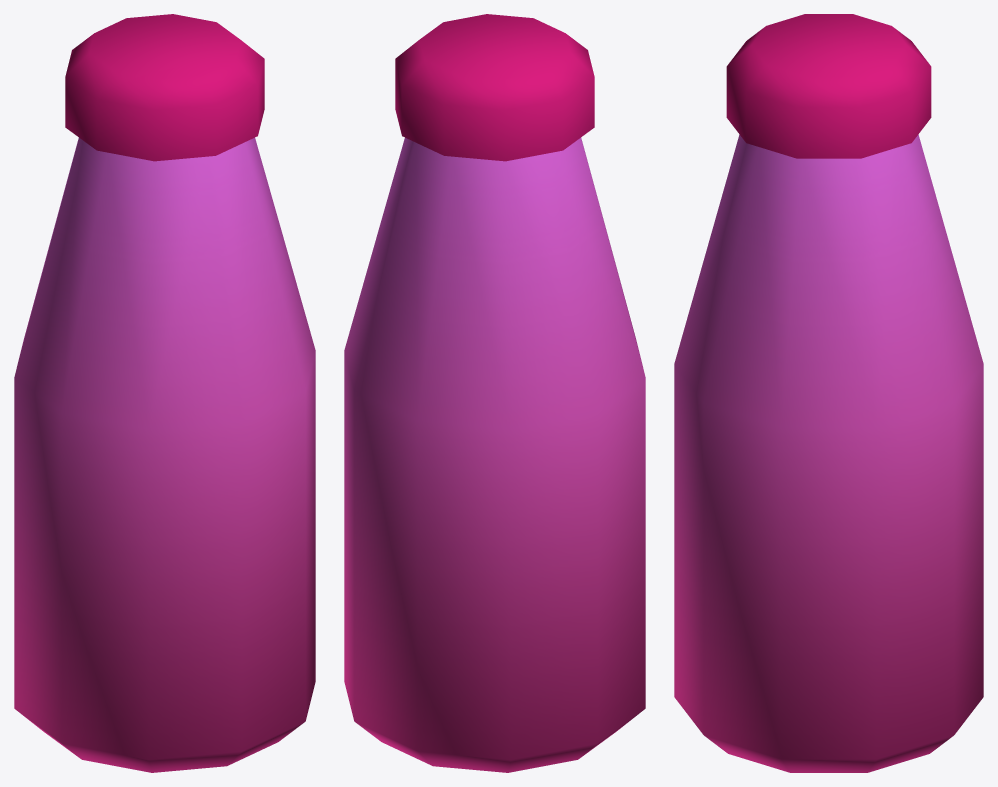
File: bottle_small_pink.fbx
3 views of the same model, side by side, from view 1: azimuth 30°, elevation 25°; view 2: azimuth 150°, elevation 25°; view 3: azimuth 270°, elevation 25° (orthographic).
Visible parts, largest first — view 1: bottle_small_pink; view 2: bottle_small_pink; view 3: bottle_small_pink.
Part boxes in pixels (left/top/right/bottom): bottle_small_pink: left=14, top=14, right=315, bottom=772; bottle_small_pink: left=344, top=14, right=645, bottom=772; bottle_small_pink: left=674, top=14, right=983, bottom=772.
Bounding box in the file's own units: 33.8 × 85.83 × 35.54.
